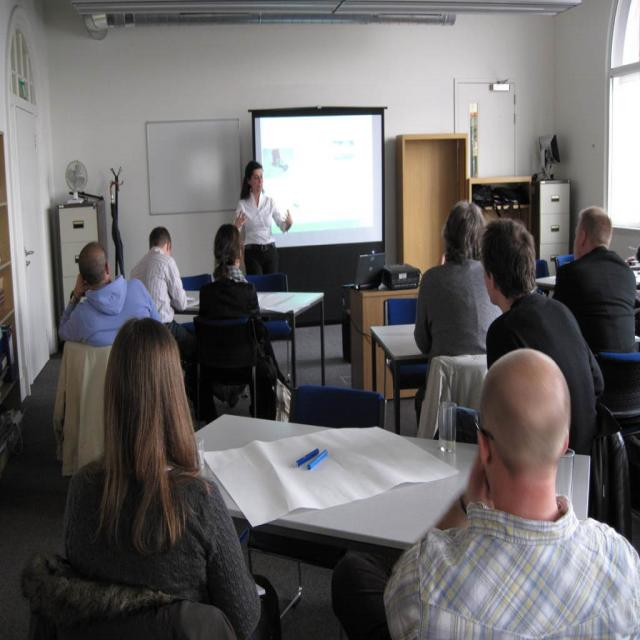chair: (20, 551, 251, 640), (193, 314, 276, 422), (372, 297, 428, 435), (596, 350, 640, 492), (422, 354, 488, 444), (292, 385, 384, 428), (244, 272, 288, 292)
desk: (225, 398, 563, 619)
person: (329, 350, 639, 638), (61, 317, 272, 638), (479, 218, 602, 455), (412, 201, 502, 426), (198, 224, 268, 415), (553, 206, 638, 356), (58, 240, 163, 348), (129, 226, 195, 347), (233, 160, 293, 277)
tv: (251, 107, 386, 251)
